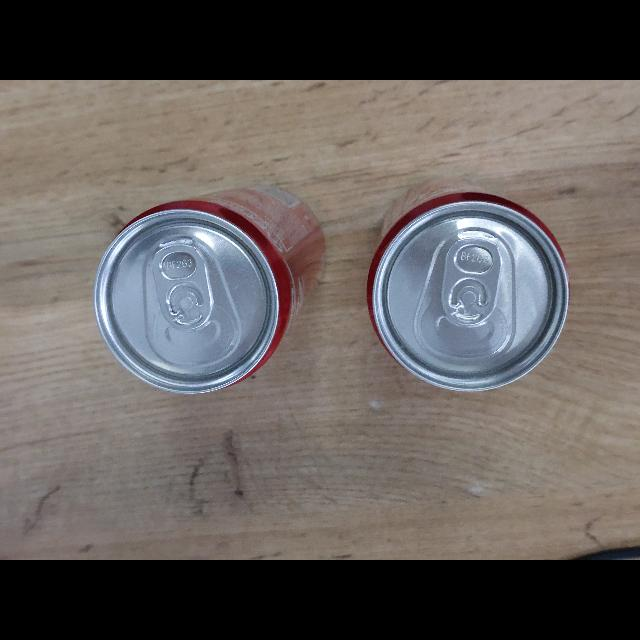coca_cola: (94, 189, 325, 393), (367, 181, 569, 391)
